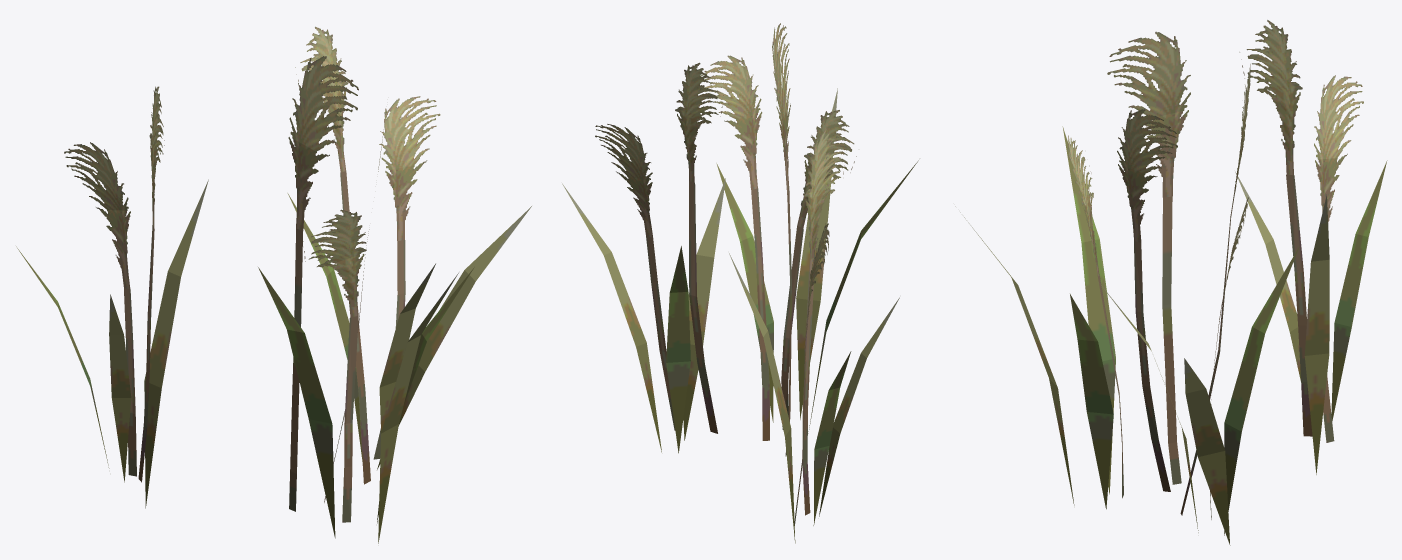
File: gi-Grass_Reed.glb
3 renders of one model, left to right at view 1: azimuth 30°, elevation 25°; view 2: azimuth 150°, elevation 25°; view 3: azimuth 270°, elevation 25°, orthographic. The views are drawn at different scales.
Parts seen in each view (by area): view 1: gi-Grass_Reed; view 2: gi-Grass_Reed; view 3: gi-Grass_Reed.
Part boxes in pixels (x1,y1,x2,y2): gi-Grass_Reed: (16, 26, 531, 543); gi-Grass_Reed: (562, 23, 918, 543); gi-Grass_Reed: (955, 20, 1387, 545).
Size of the model in its own units: 1.18 by 1.33 by 1.05.
Materials: 1 (1 with a texture image).
